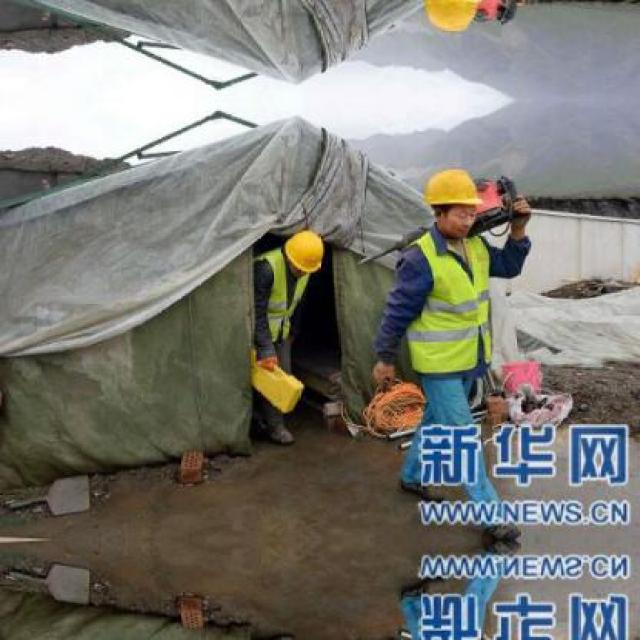helmet: (420, 163, 482, 240), (419, 0, 483, 39), (282, 227, 327, 274)
